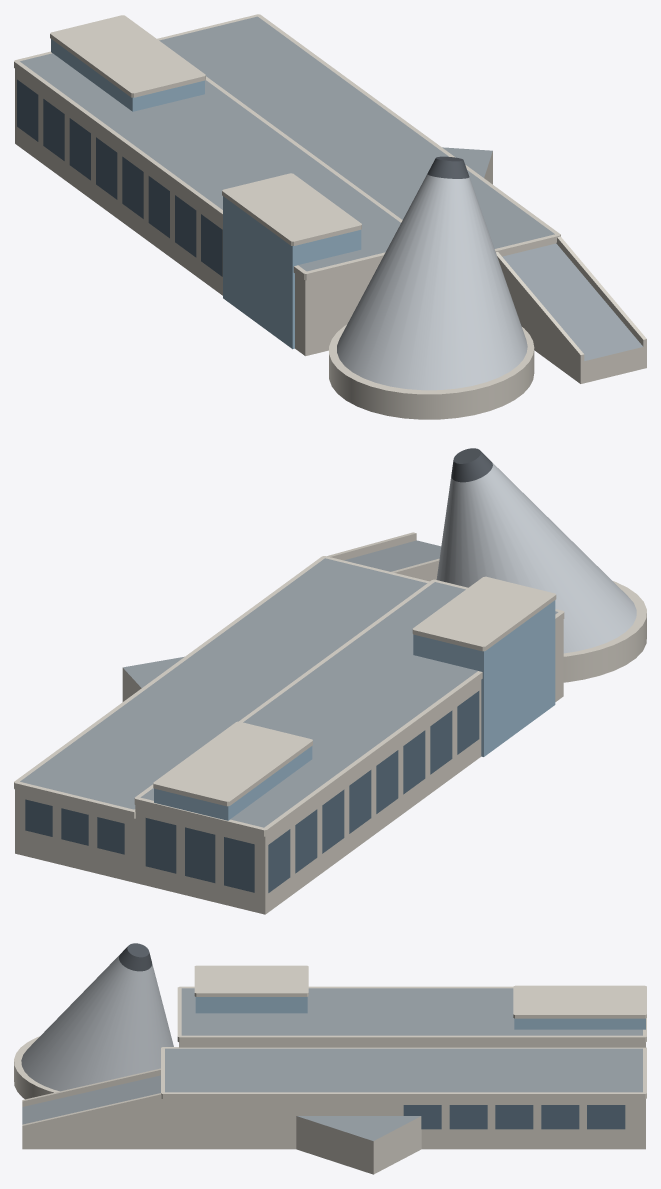
File: sea-museum-of-glass.glb
3 views of the same model, one above another, from view 1: azimuth 30°, elevation 25°; view 2: azimuth 150°, elevation 25°; view 3: azimuth 270°, elevation 25° (orthographic). The views are drawn at different scales.
Visible parts, largest first — view 1: Museum of Glass; view 2: Museum of Glass; view 3: Museum of Glass.
Boxes of the visible parts, bbox=[...] form: Museum of Glass: bbox=[14, 14, 646, 419]; Museum of Glass: bbox=[14, 448, 646, 914]; Museum of Glass: bbox=[14, 943, 646, 1174].
Size of the model in its own units: 53.68 by 30.18 by 113.
